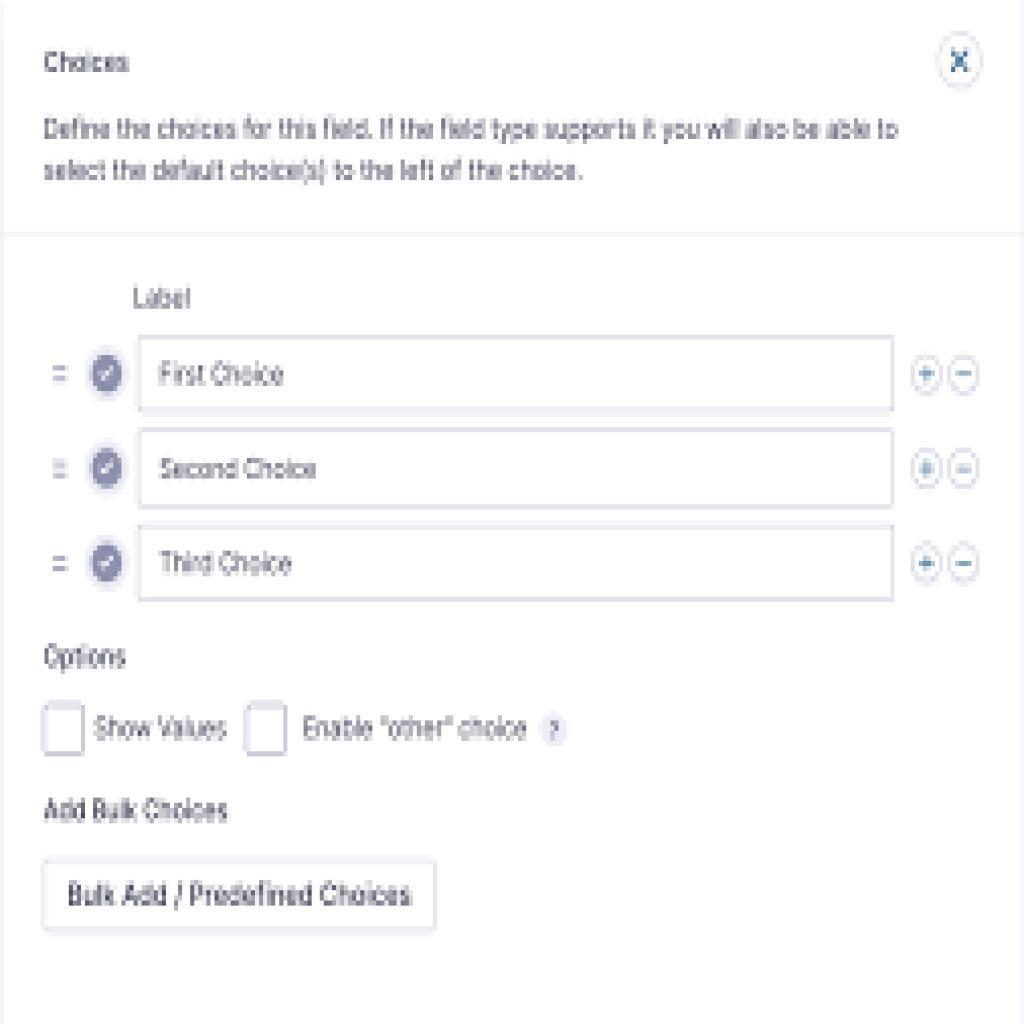button: (41, 863, 439, 930)
checkbox: (243, 707, 288, 757), (45, 703, 85, 755)
icon: (45, 359, 74, 396), (48, 545, 74, 580), (46, 452, 71, 485)
input: (141, 432, 890, 506), (142, 338, 892, 411), (142, 525, 892, 596)
radio: (86, 540, 129, 583), (88, 351, 127, 396), (89, 448, 128, 488)
